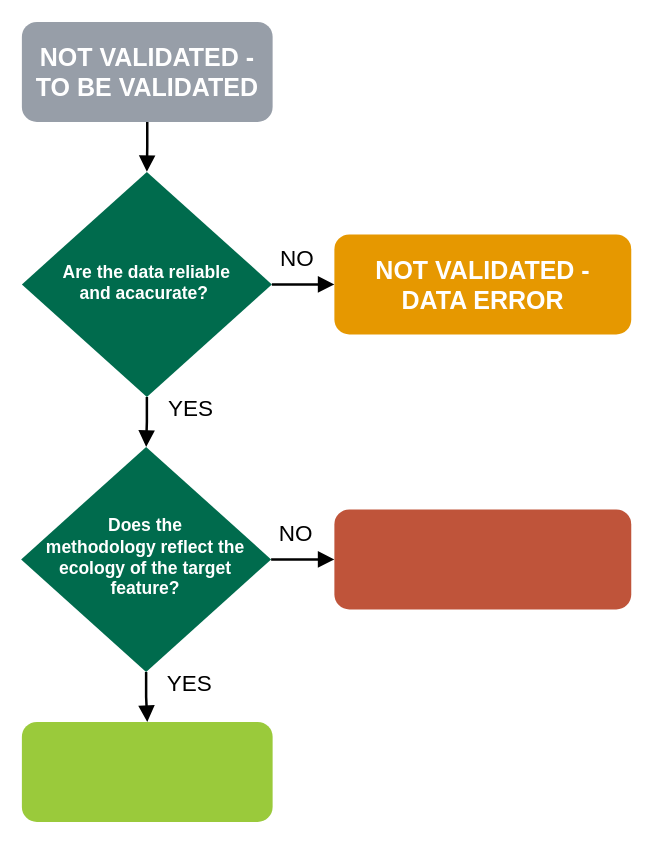
The diagram is 654 pixels wide and 843 high, and some of its shapes have lost their labels. Each missing label, with the centre of its shape:
"NOT VALIDATED - METHOD ERROR" belongs at point (482, 559).
"VALIDATED" belongs at point (146, 771).
